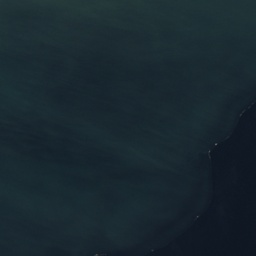Marine Debris: (238, 99, 256, 119), (207, 149, 211, 159), (94, 253, 105, 256), (213, 142, 219, 147)
